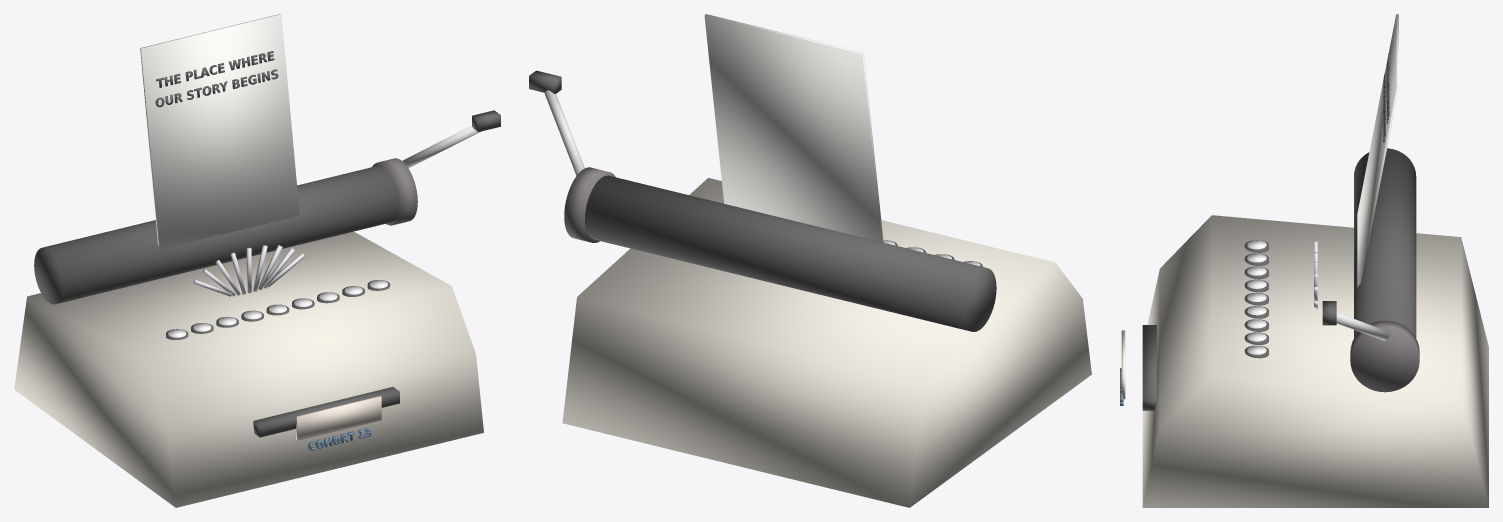
The model's file is typewriter.glb.
The picture shows the model from 3 angles, left to right: view 1: azimuth 30°, elevation 25°; view 2: azimuth 150°, elevation 25°; view 3: azimuth 270°, elevation 25°; orthographic projection. The views are drawn at different scales.
Visible parts, largest first — view 1: part0, part1, part81; view 2: part0, part1, part81; view 3: part0, part1, part81.
Boxes of the visible parts, box(x1,y1,x2,y2) form: part0: box(14, 231, 483, 507); part1: box(34, 14, 500, 450); part81: box(402, 125, 480, 168); part0: box(562, 178, 1091, 507); part1: box(529, 14, 996, 331); part81: box(544, 90, 584, 175); part0: box(1142, 215, 1488, 507); part1: box(1120, 14, 1419, 410); part81: box(1336, 312, 1389, 340).
Size of the model in its own units: 1 by 0.7952 by 0.7053.
Materials: 3 (3 with a texture image).
